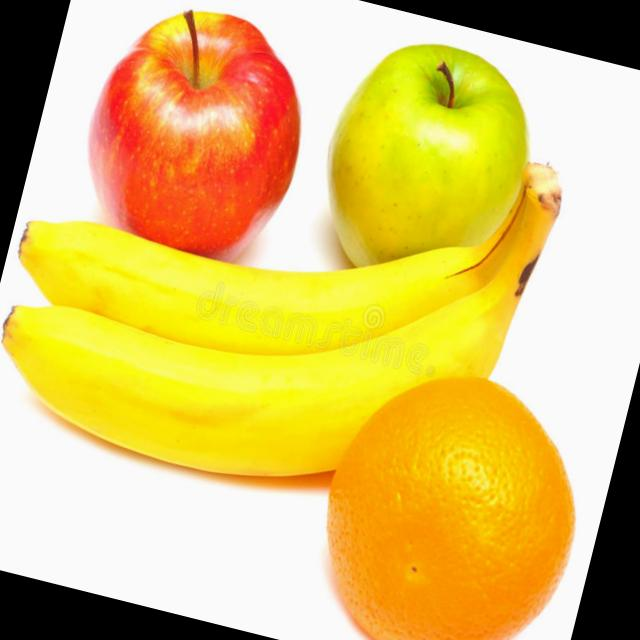apple: (58, 0, 330, 308)
banana: (0, 181, 542, 548), (0, 125, 516, 448)
orange: (294, 343, 609, 640)
